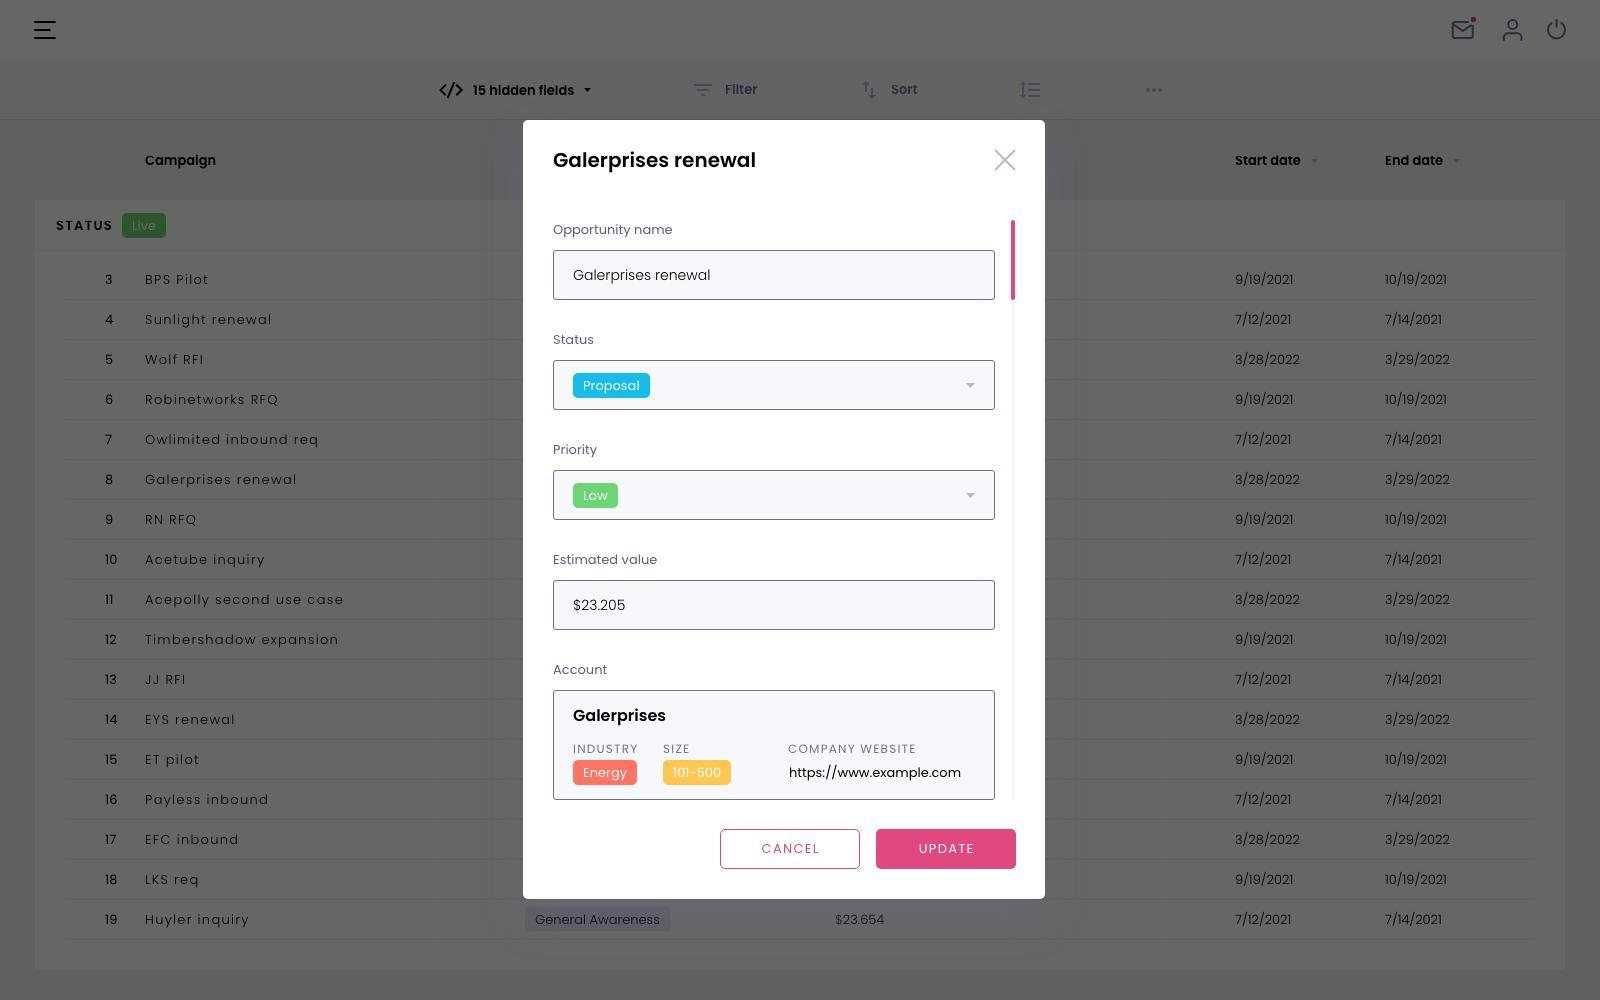button: (721, 829, 860, 869), (877, 829, 1018, 868)
dropdown: (554, 361, 998, 410), (555, 471, 996, 521)
input: (556, 581, 998, 632), (554, 250, 994, 300)
label: (549, 219, 678, 241), (552, 551, 658, 569), (547, 439, 607, 462), (551, 661, 612, 681), (547, 329, 597, 351)
